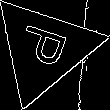P_E: (13, 23, 75, 75)
